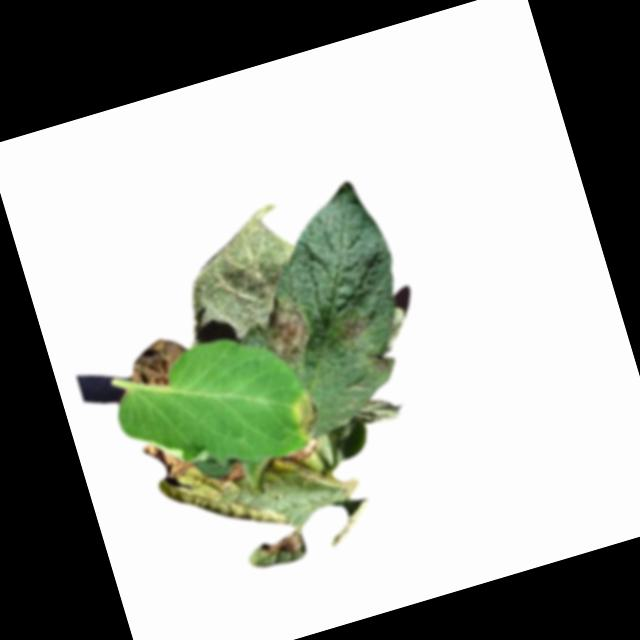Late_blight: (119, 332, 195, 397), (260, 296, 314, 366), (140, 433, 198, 486), (285, 389, 324, 443), (328, 308, 376, 350), (259, 529, 305, 563), (279, 438, 321, 465), (214, 459, 246, 486), (366, 347, 391, 373)
